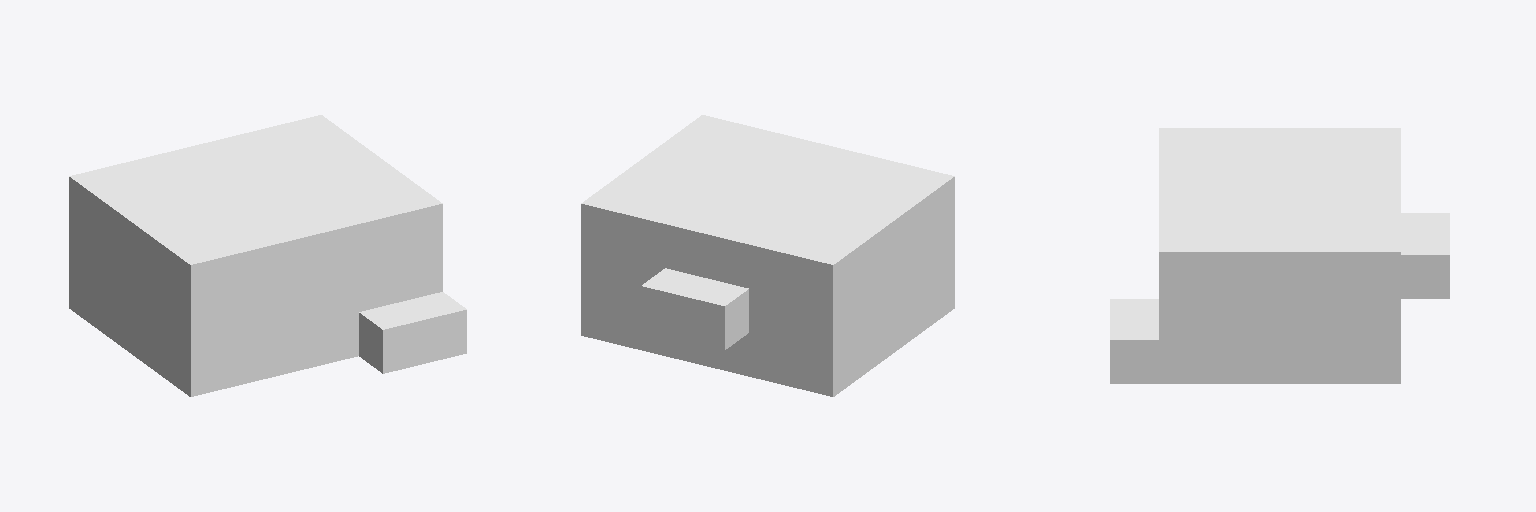
File: convenienceStore.obj
The picture shows the model from 3 angles: view 1: azimuth 30°, elevation 25°; view 2: azimuth 150°, elevation 25°; view 3: azimuth 270°, elevation 25°; orthographic projection.
Parts seen in each view (by area): view 1: object 1; view 2: object 1; view 3: object 1.
Boxes of the visible parts, x1,y1,x2,y2 form: object 1: [69, 115, 466, 396]; object 1: [581, 115, 954, 396]; object 1: [1110, 128, 1449, 383].
Bounding box in the file's own units: 0.6 × 0.3 × 0.7.